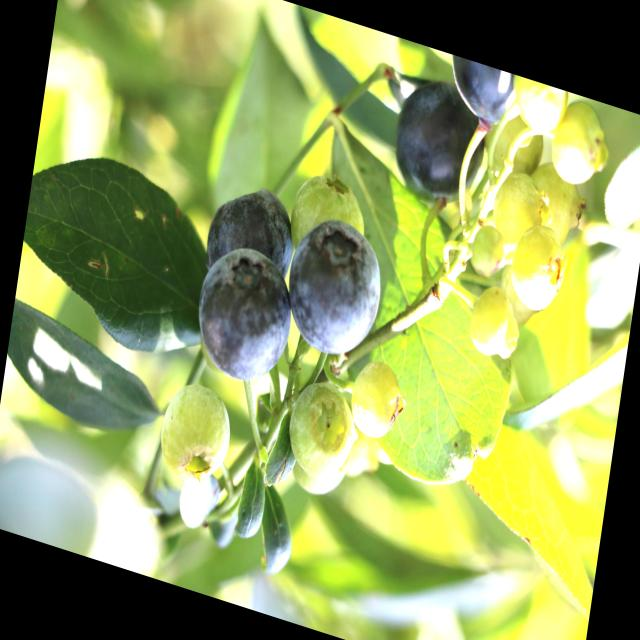blueberry: (277, 207, 393, 374), (189, 239, 298, 391), (387, 71, 487, 216), (200, 168, 303, 289), (445, 54, 524, 134)
blueberry-unripe: (153, 376, 240, 496), (282, 372, 360, 482), (545, 88, 613, 197), (288, 165, 371, 252), (500, 218, 570, 320), (338, 345, 405, 443), (460, 272, 524, 368), (520, 162, 584, 245), (488, 167, 548, 253), (507, 74, 568, 143), (467, 220, 508, 282)
